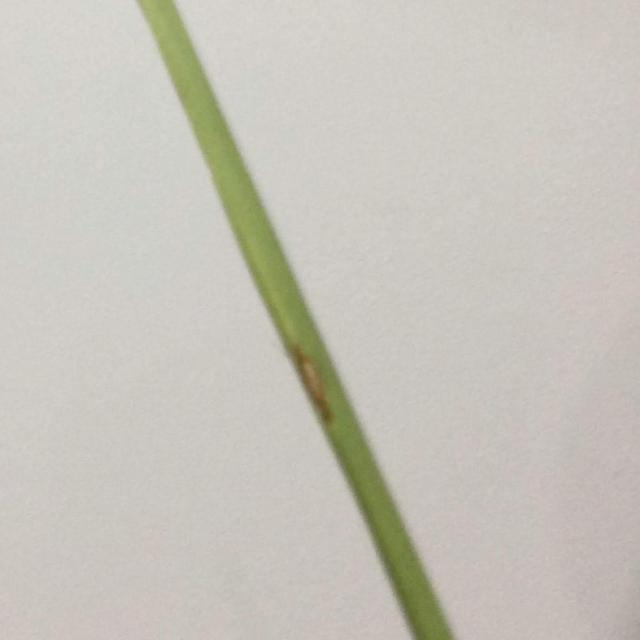Leaf blast: (115, 0, 476, 640)
